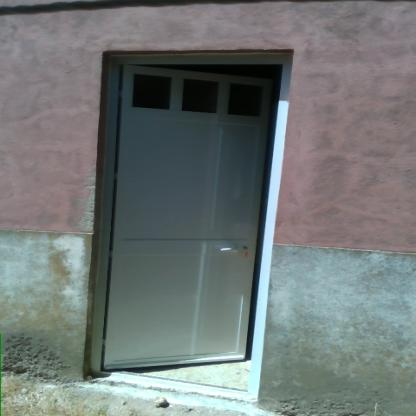closed: (86, 32, 296, 399)
